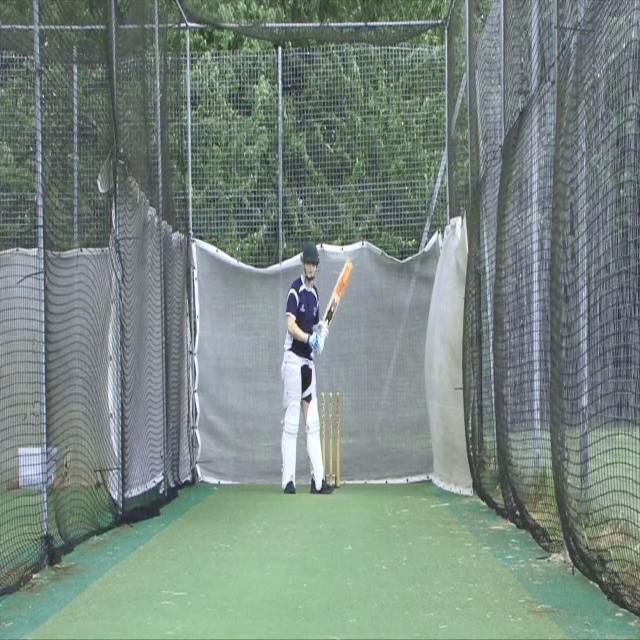batsman: (278, 240, 354, 496)
